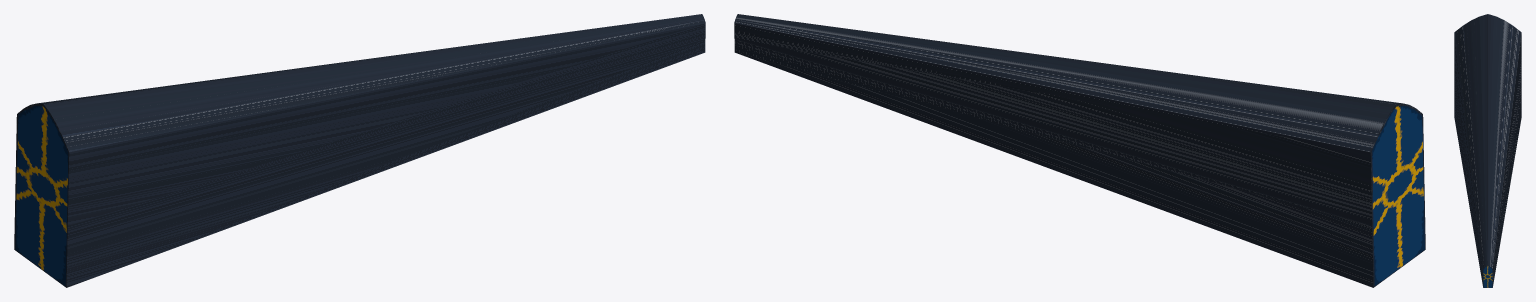
Rendered from light_model_5.fbx.
3 renders of one model, left to right at view 1: azimuth 30°, elevation 25°; view 2: azimuth 150°, elevation 25°; view 3: azimuth 270°, elevation 25°, orthographic. The views are drawn at different scales.
Visible parts, largest first — view 1: Cube.019; view 2: Cube.019; view 3: Cube.019.
Boxes of the visible parts, <box> form: Cube.019: <box>14,14,705,287</box>; Cube.019: <box>734,14,1425,287</box>; Cube.019: <box>1454,14,1521,287</box>.
Size of the model in its own units: 18765 by 4436 by 2570.
